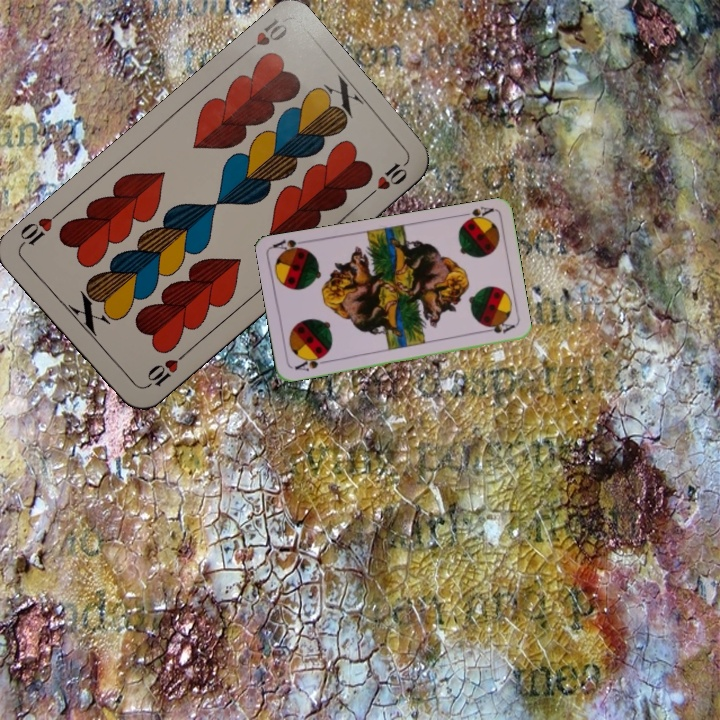H10: (238, 14, 290, 59), (139, 348, 189, 392)
SA: (456, 203, 496, 227), (290, 351, 330, 374)
